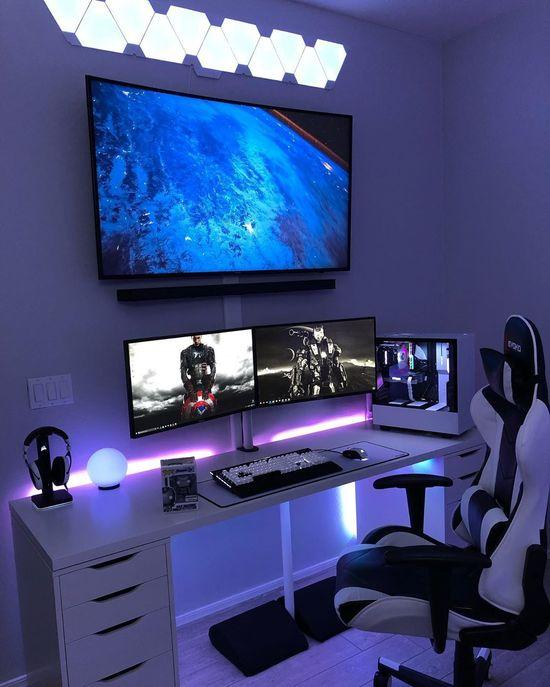monitor: (80, 69, 358, 283), (117, 325, 259, 439), (252, 313, 379, 413)
